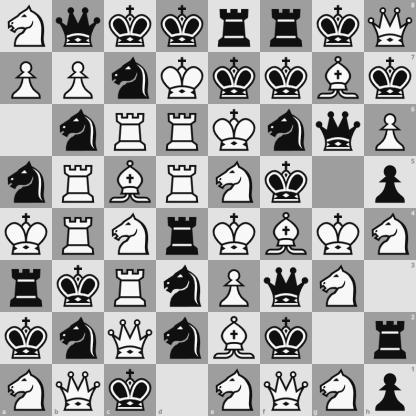B: (105, 157, 156, 208), (209, 313, 260, 364), (261, 209, 312, 260), (313, 53, 364, 104)
K: (1, 209, 52, 260), (157, 53, 208, 104), (209, 105, 260, 156), (209, 209, 260, 260), (313, 209, 364, 260)
N: (0, 364, 52, 416), (312, 364, 364, 416), (209, 364, 260, 416), (364, 209, 416, 260), (1, 1, 52, 52), (105, 209, 156, 260), (209, 157, 260, 208), (313, 261, 364, 312)
P: (364, 104, 416, 156), (1, 53, 52, 104), (53, 53, 104, 104), (209, 261, 260, 312)
Q: (52, 364, 104, 416), (260, 364, 312, 416), (364, 0, 416, 52), (105, 313, 156, 364)
R: (53, 157, 104, 208), (53, 209, 104, 260), (105, 105, 156, 156), (105, 261, 156, 312), (157, 105, 208, 156), (157, 157, 208, 208)
board: (0, 0, 415, 415)
k: (104, 364, 156, 416), (364, 52, 416, 104), (1, 313, 52, 364), (53, 261, 104, 312), (105, 1, 156, 52), (157, 1, 208, 52), (209, 53, 260, 104), (261, 53, 312, 104), (261, 157, 312, 208), (261, 313, 312, 364), (313, 1, 364, 52)
n: (1, 157, 52, 208), (53, 105, 104, 156), (53, 313, 104, 364), (105, 53, 156, 104), (157, 261, 208, 312), (157, 313, 208, 364), (261, 105, 312, 156)
p: (364, 156, 416, 209), (364, 364, 416, 416)
q: (53, 1, 104, 52), (261, 261, 312, 312), (313, 105, 364, 156)
r: (364, 312, 416, 364), (1, 261, 52, 312), (157, 209, 208, 260), (209, 1, 260, 52), (261, 1, 312, 52)
